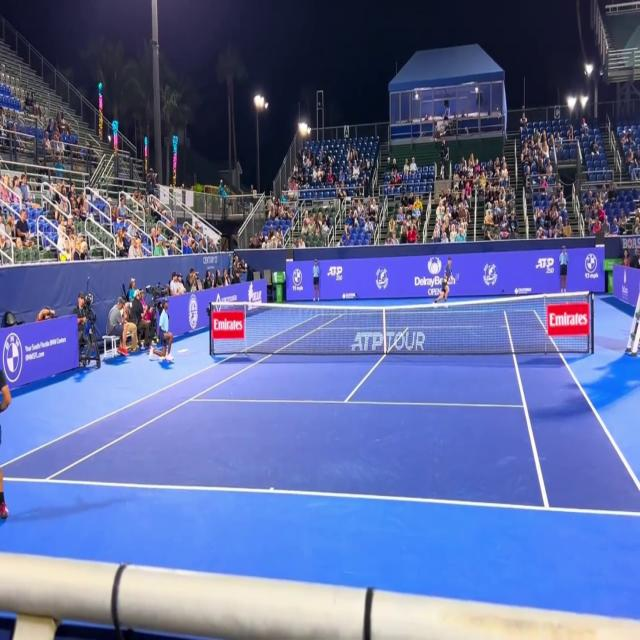tennisBall: (442, 277, 450, 285)
